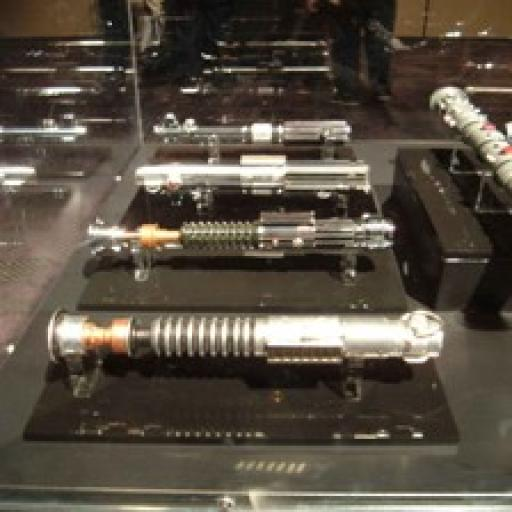lightsaber: (42, 303, 450, 369), (79, 208, 400, 277), (129, 152, 376, 201), (154, 110, 357, 153)
